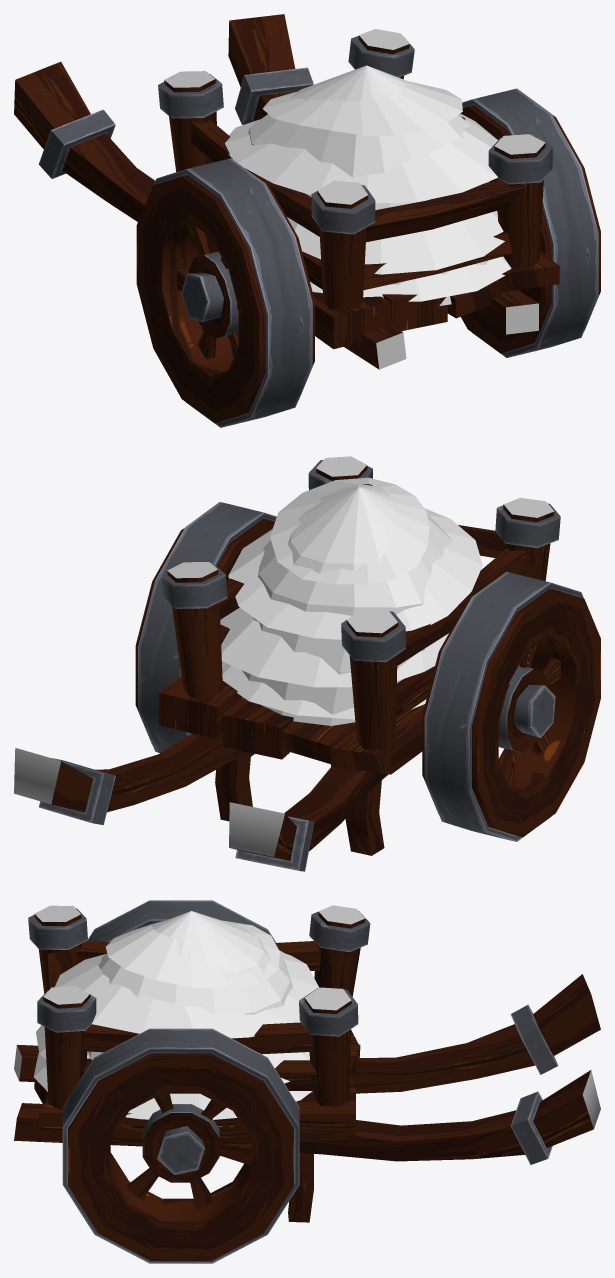
Rendered from SM_PROP_cart_03.fbx.
3 views of the same model, one above another, from view 1: azimuth 30°, elevation 25°; view 2: azimuth 150°, elevation 25°; view 3: azimuth 270°, elevation 25° (orthographic). The views are drawn at different scales.
Visible parts, largest first — view 1: SM_PROP_cart_03, SM_PROP_cart_wheel_big_R_03, SM_PROP_cart_wheel_big_L_03; view 2: SM_PROP_cart_03, SM_PROP_cart_wheel_big_R_03, SM_PROP_cart_wheel_big_L_03; view 3: SM_PROP_cart_03, SM_PROP_cart_wheel_big_L_03, SM_PROP_cart_wheel_big_R_03.
Part boxes in pixels (x1,y1,x2,y2): SM_PROP_cart_03: (14, 14, 559, 369); SM_PROP_cart_wheel_big_R_03: (136, 158, 314, 427); SM_PROP_cart_wheel_big_L_03: (460, 88, 600, 357); SM_PROP_cart_03: (14, 456, 560, 871); SM_PROP_cart_wheel_big_R_03: (422, 572, 600, 841); SM_PROP_cart_wheel_big_L_03: (135, 502, 276, 756); SM_PROP_cart_03: (14, 905, 600, 1222); SM_PROP_cart_wheel_big_L_03: (62, 1028, 299, 1263); SM_PROP_cart_wheel_big_R_03: (87, 900, 276, 942).
Size of the model in its own units: 275 by 231 by 438.
